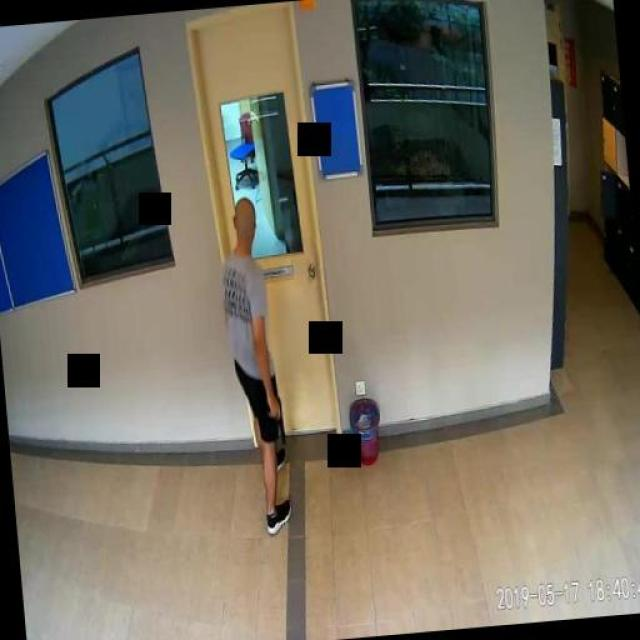gun: (266, 396, 284, 442)
